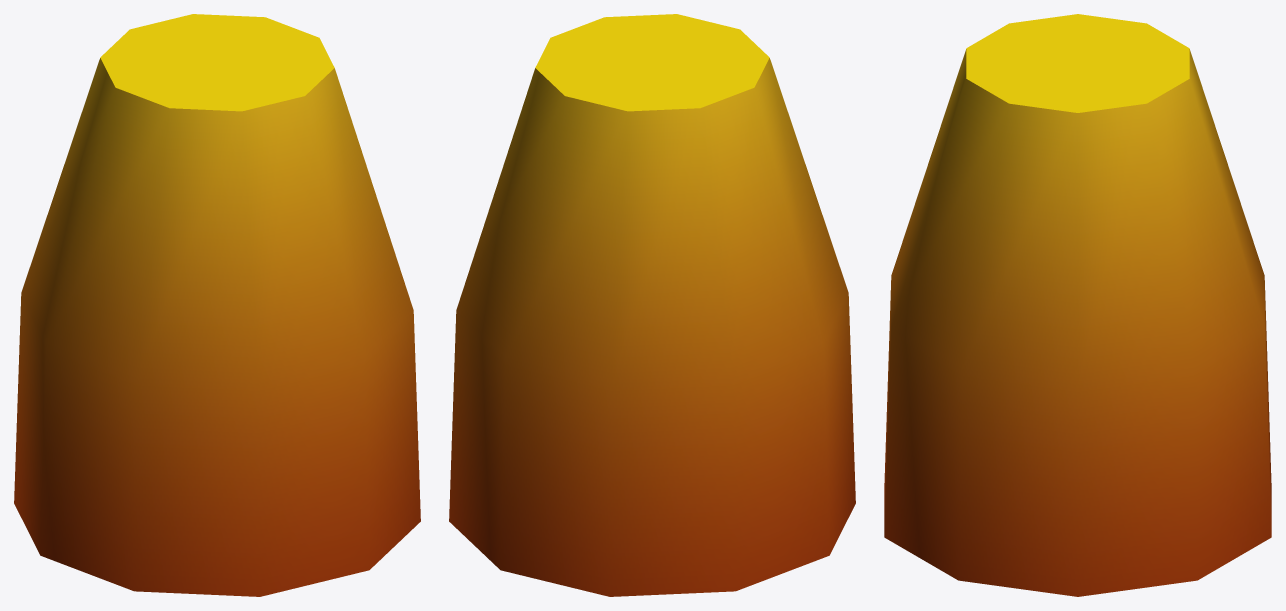
The model's file is Potion_A_S_Liquid.fbx.
The picture shows the model from 3 angles, left to right: view 1: azimuth 30°, elevation 25°; view 2: azimuth 150°, elevation 25°; view 3: azimuth 270°, elevation 25°; orthographic projection.
Visible parts, largest first — view 1: Potion_A_S_Liquid; view 2: Potion_A_S_Liquid; view 3: Potion_A_S_Liquid.
Part boxes in pixels (x1,y1,x2,y2): Potion_A_S_Liquid: (14, 14, 420, 596); Potion_A_S_Liquid: (449, 14, 855, 596); Potion_A_S_Liquid: (884, 14, 1271, 596).
Size of the model in its own units: 22.57 by 27.38 by 21.47.
1 material, 1 textured.
